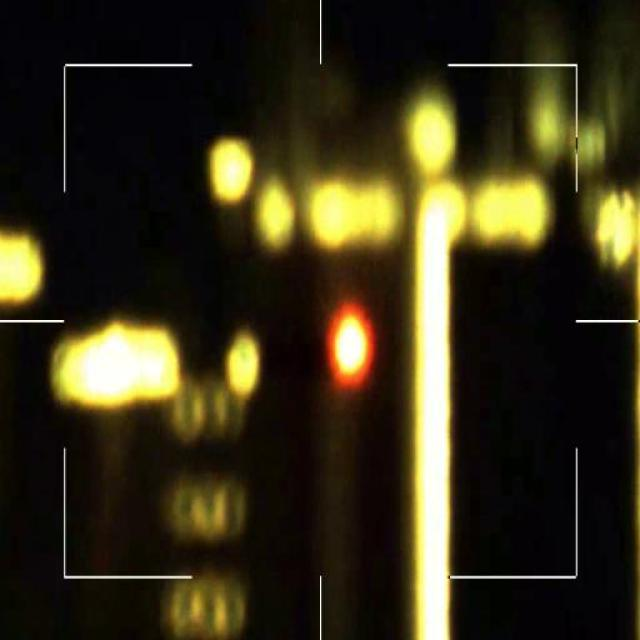bird: (325, 308, 375, 384)
